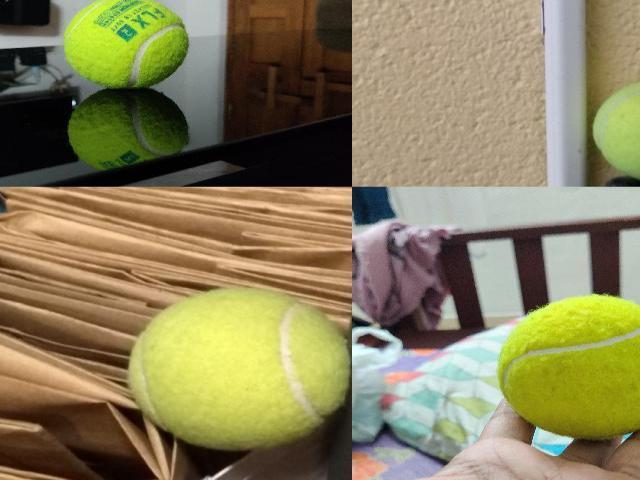tennis-ball: (125, 287, 351, 453), (495, 293, 639, 441), (63, 0, 190, 88), (590, 80, 639, 186)
